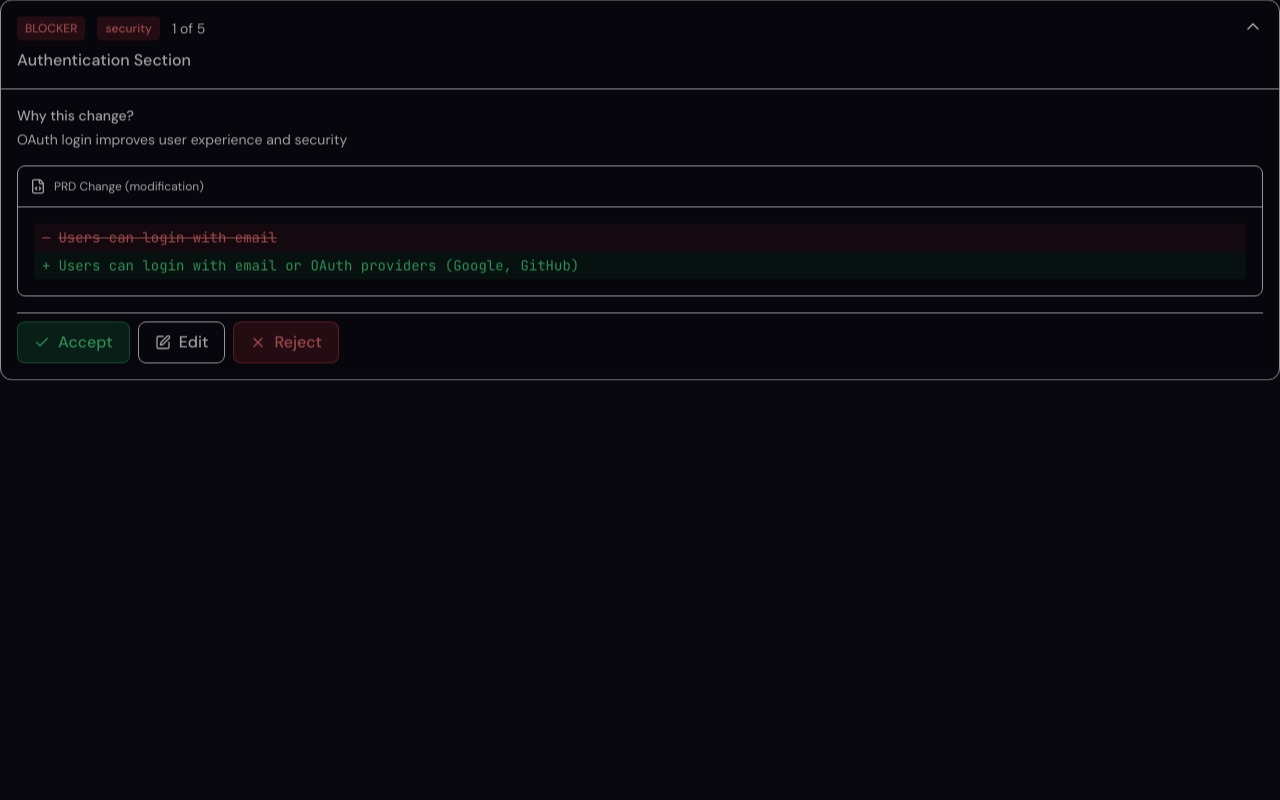
PRDChangeCard › toggles edit mode
Click the button "Edit" at {"x": 182, "y": 342}, box [138,321,226,363]
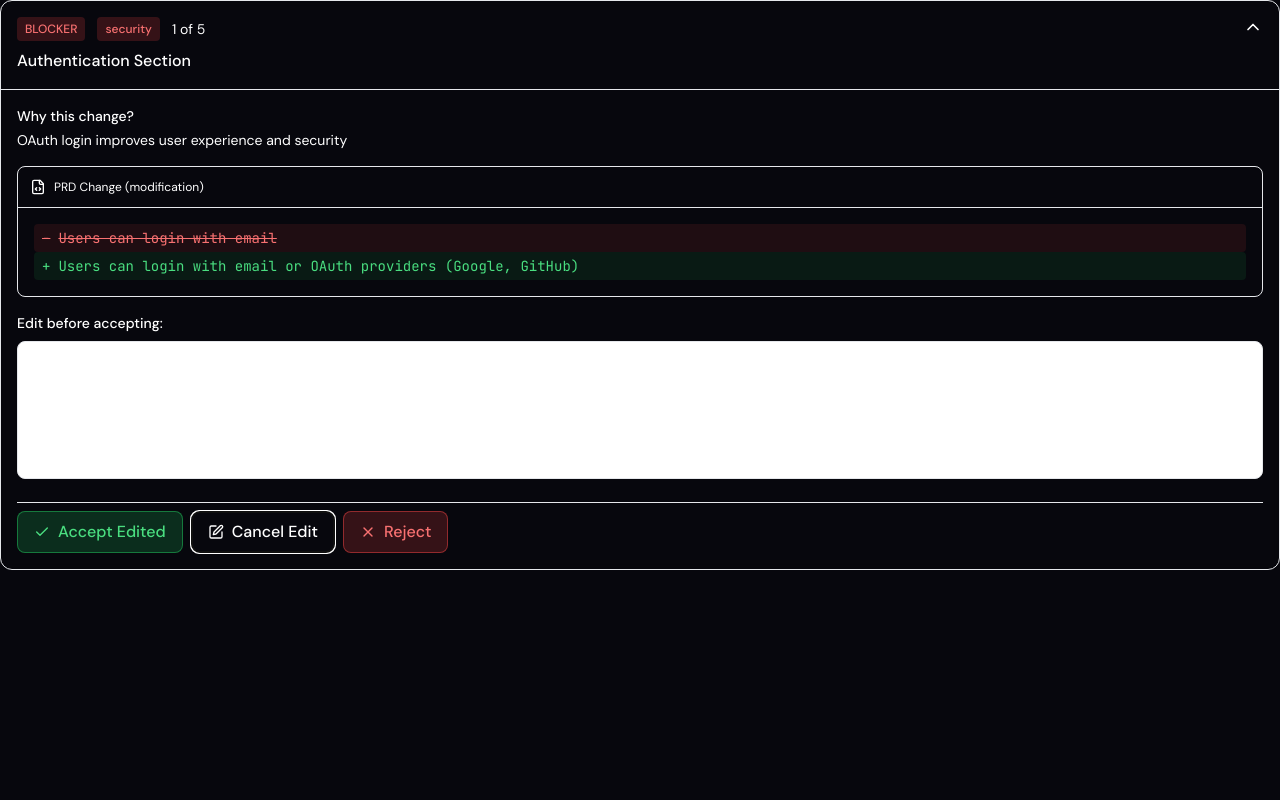
Result: the text box is shown at [17,341,1263,479]
Result: the text "Edit before accepting:" is shown at [17,314,163,332]
